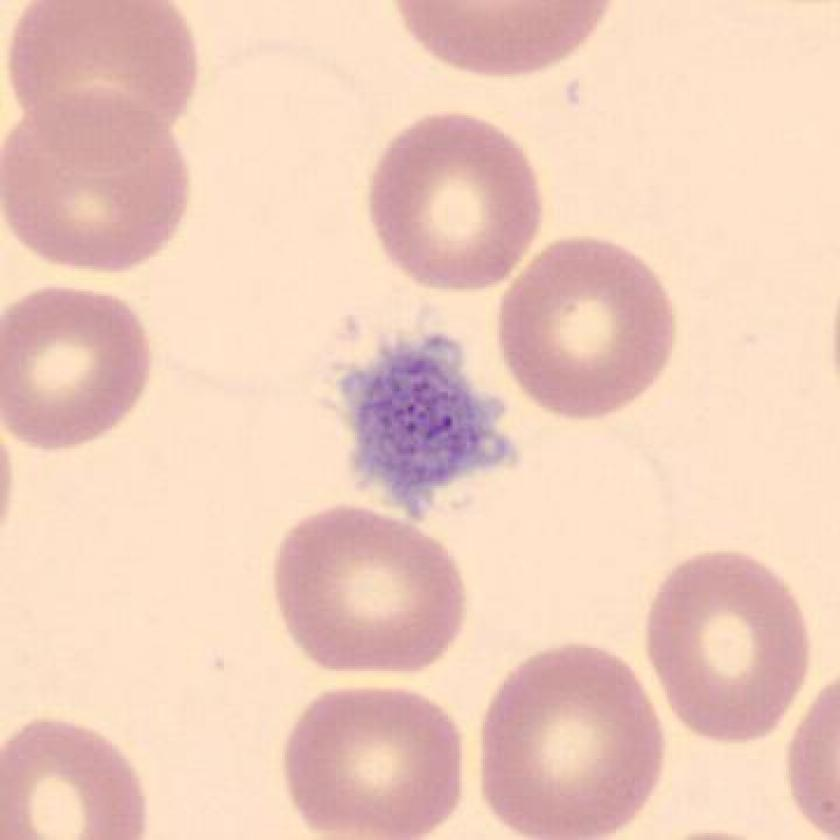platelets: (321, 318, 538, 531)
